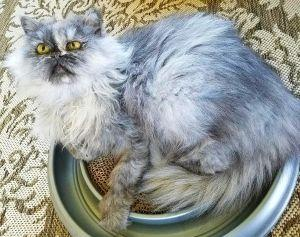persian: (13, 6, 112, 106)
